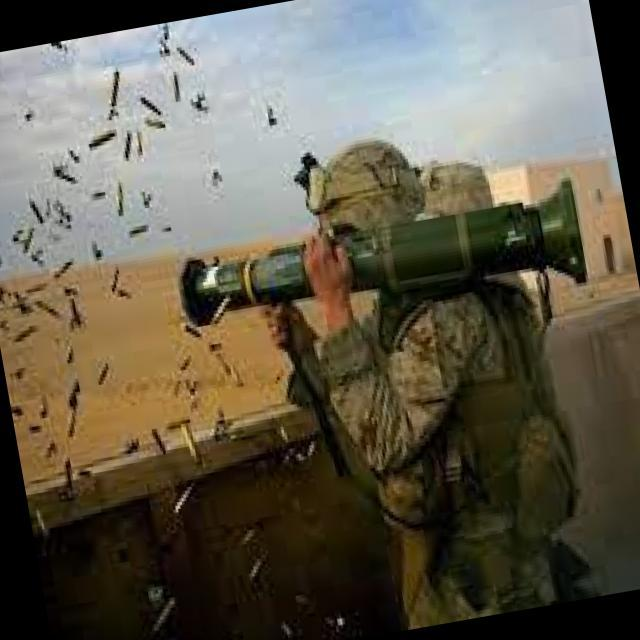rocket: (164, 171, 602, 346)
